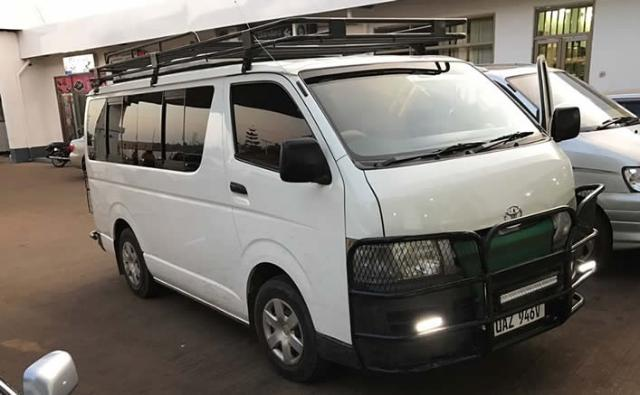van: (84, 14, 601, 385)
